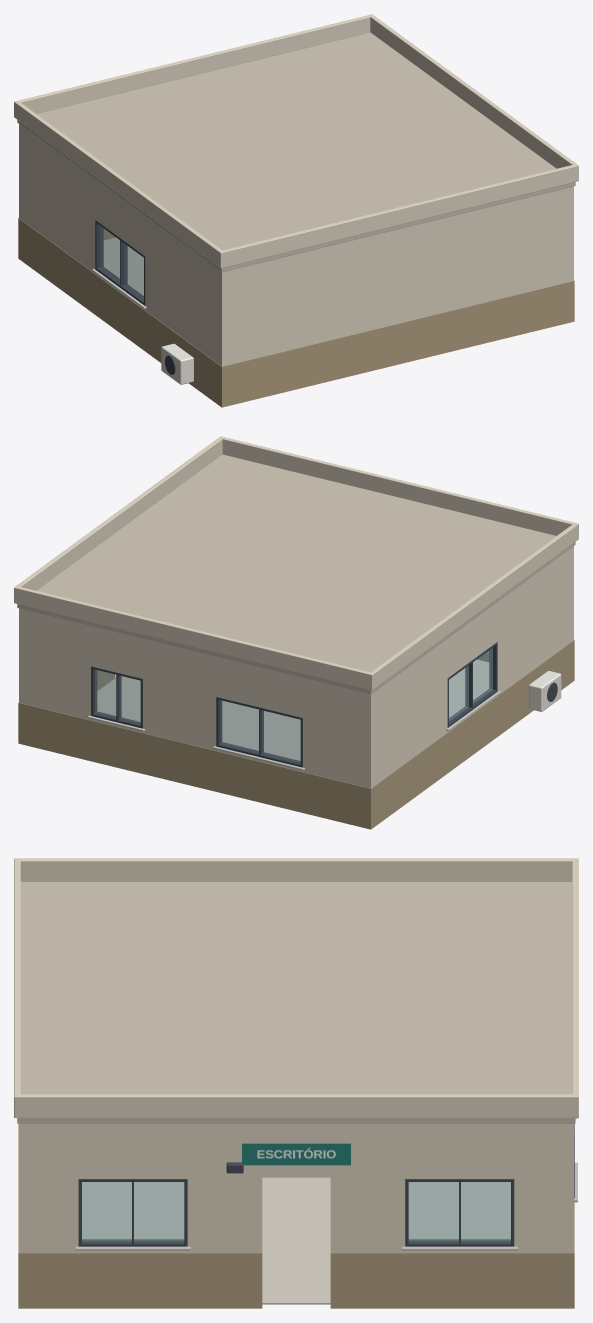
Rendered from escritorio.glb.
3 renders of one model, top to bottom at view 1: azimuth 30°, elevation 25°; view 2: azimuth 150°, elevation 25°; view 3: azimuth 270°, elevation 25°, orthographic. The views are drawn at different scales.
Visible parts, largest first — view 1: trecho (×5), laje, platibanda (×4), verga, vidro, piso, condensadora; view 2: laje, trecho (×9), platibanda (×4), verga (×3), vidro (×3), piso, condensadora, caixilho; view 3: laje, trecho (×8), platibanda (×4), piso, verga (×3), vidro (×2), letreiro, caixilho (×2), peitoril_pedra (×2).
Boxes of the visible parts, x1,y1,x2,y2 form: trecho (×5): [18, 124, 574, 407]; laje: [17, 32, 575, 271]; platibanda (×4): [14, 14, 578, 268]; verga: [95, 180, 145, 255]; vidro: [100, 226, 143, 299]; piso: [103, 237, 143, 295]; condensadora: [161, 343, 193, 384]; laje: [17, 454, 575, 693]; trecho (×9): [18, 546, 574, 829]; platibanda (×4): [14, 436, 578, 690]; verga (×3): [91, 602, 497, 717]; vidro (×3): [95, 648, 492, 762]; piso: [97, 659, 489, 760]; condensadora: [528, 671, 561, 711]; caixilho: [216, 742, 302, 767]; laje: [17, 882, 575, 1123]; trecho (×8): [18, 1123, 574, 1308]; platibanda (×4): [14, 858, 578, 1117]; piso: [82, 1177, 510, 1304]; verga (×3): [78, 1123, 514, 1178]; vidro (×2): [82, 1182, 510, 1241]; letreiro: [242, 1143, 350, 1165]; caixilho (×2): [78, 1239, 514, 1246]; peitoril_pedra (×2): [75, 1246, 517, 1250].
Size of the model in its own units: 8.61 by 3.46 by 8.3.
13 materials, 1 textured.
